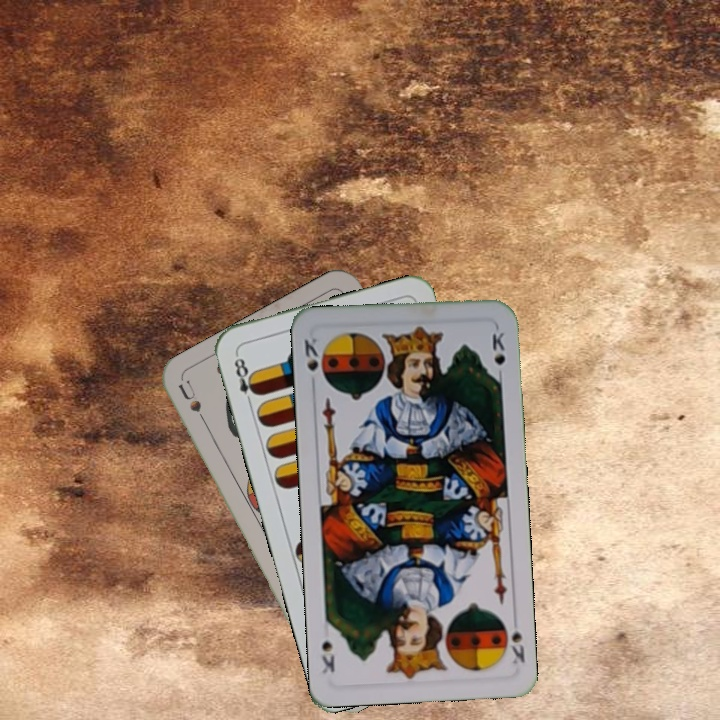E8: (230, 349, 261, 408)
SK: (499, 612, 528, 666), (300, 332, 321, 374)
SU: (175, 377, 213, 433)
